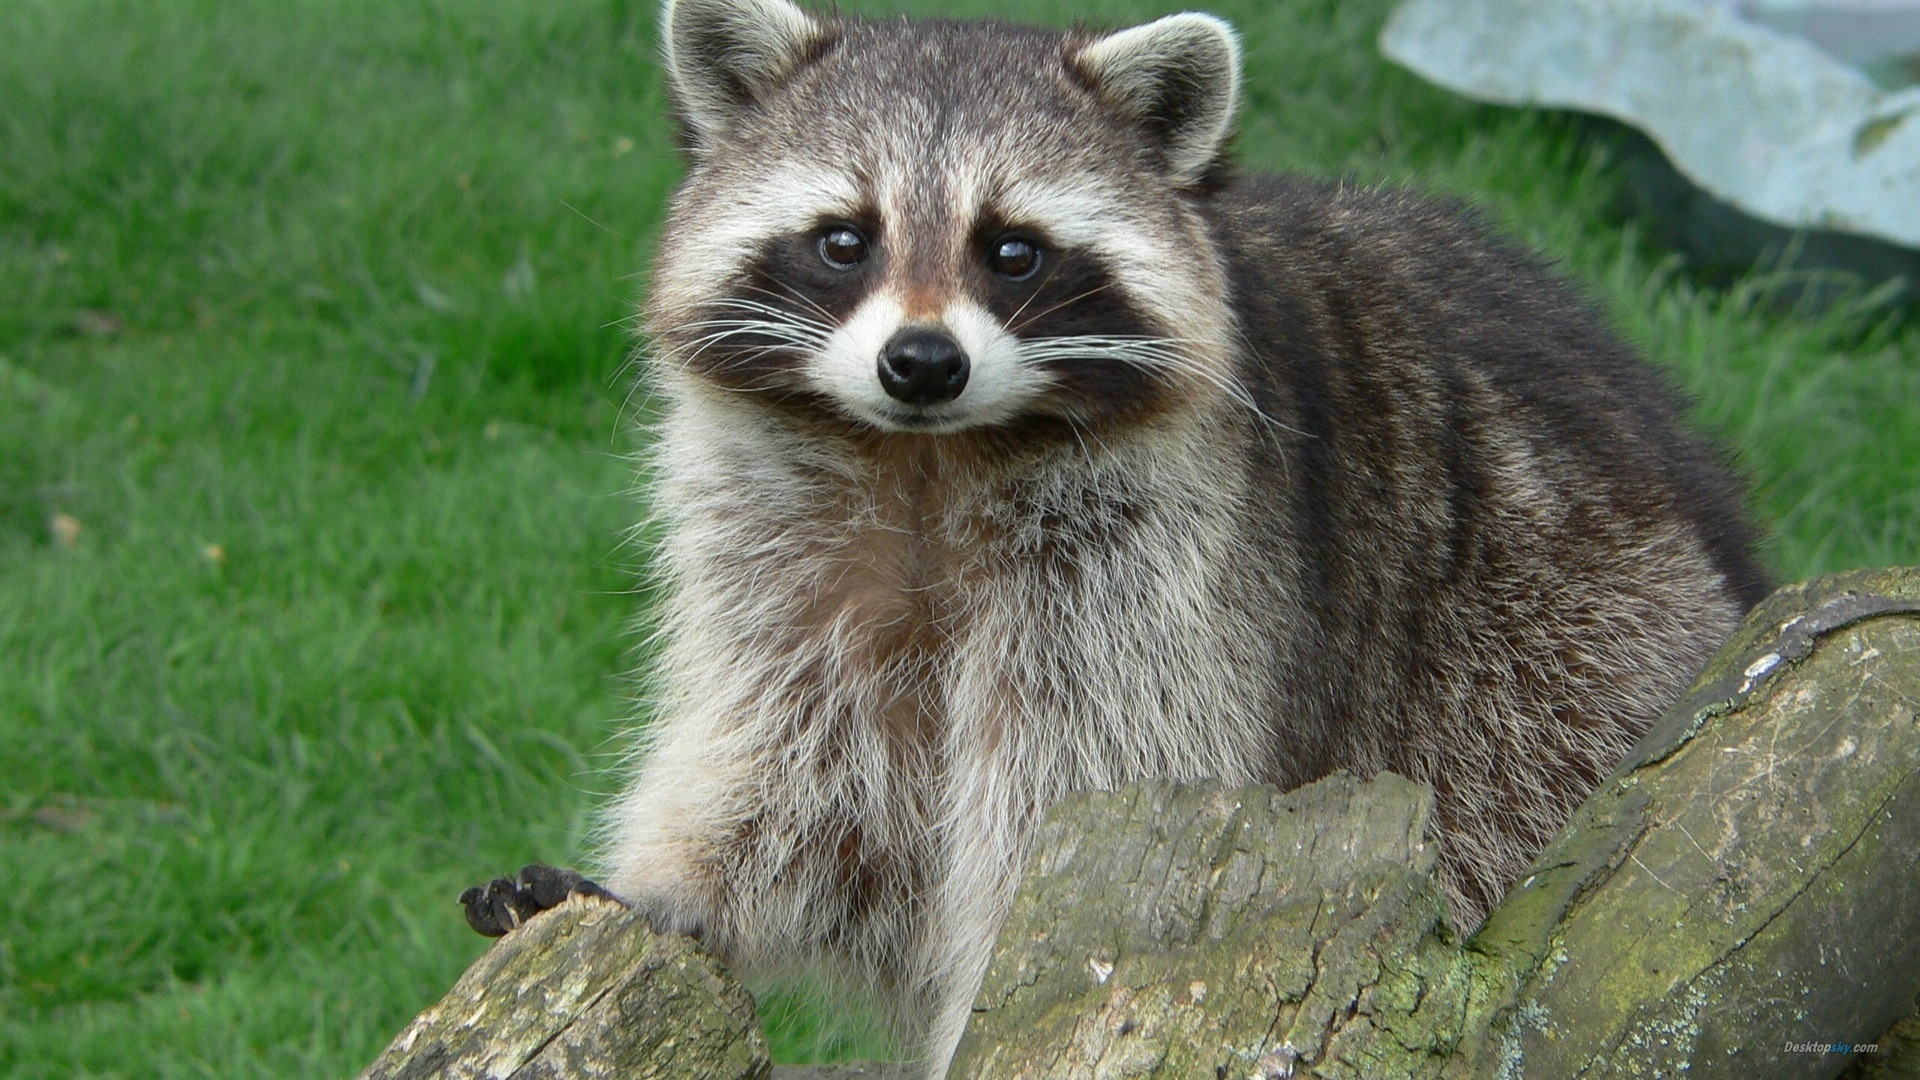raccoon: (431, 8, 1784, 957)
